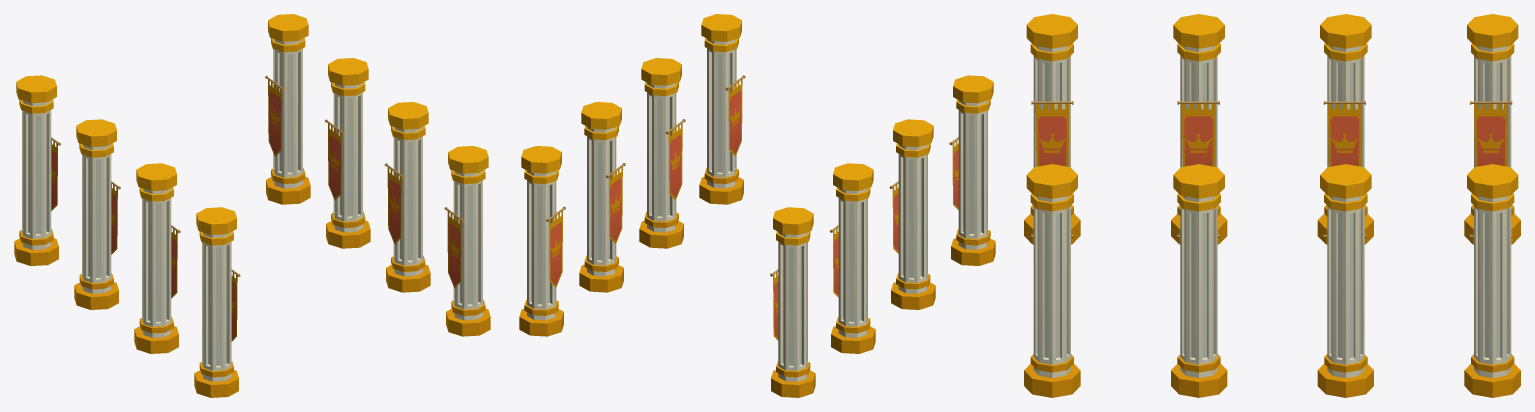
The model's file is Column.fbx.
The picture shows the model from 3 angles, left to right: view 1: azimuth 30°, elevation 25°; view 2: azimuth 150°, elevation 25°; view 3: azimuth 270°, elevation 25°; orthographic projection. The views are drawn at different scales.
Parts seen in each view (by area): view 1: Column; view 2: Column; view 3: Column.
Boxes of the visible parts, x1,y1,x2,y2 form: Column: (14, 14, 490, 397); Column: (519, 14, 995, 397); Column: (1024, 14, 1520, 397).
Size of the model in its own units: 713 by 403 by 860.
